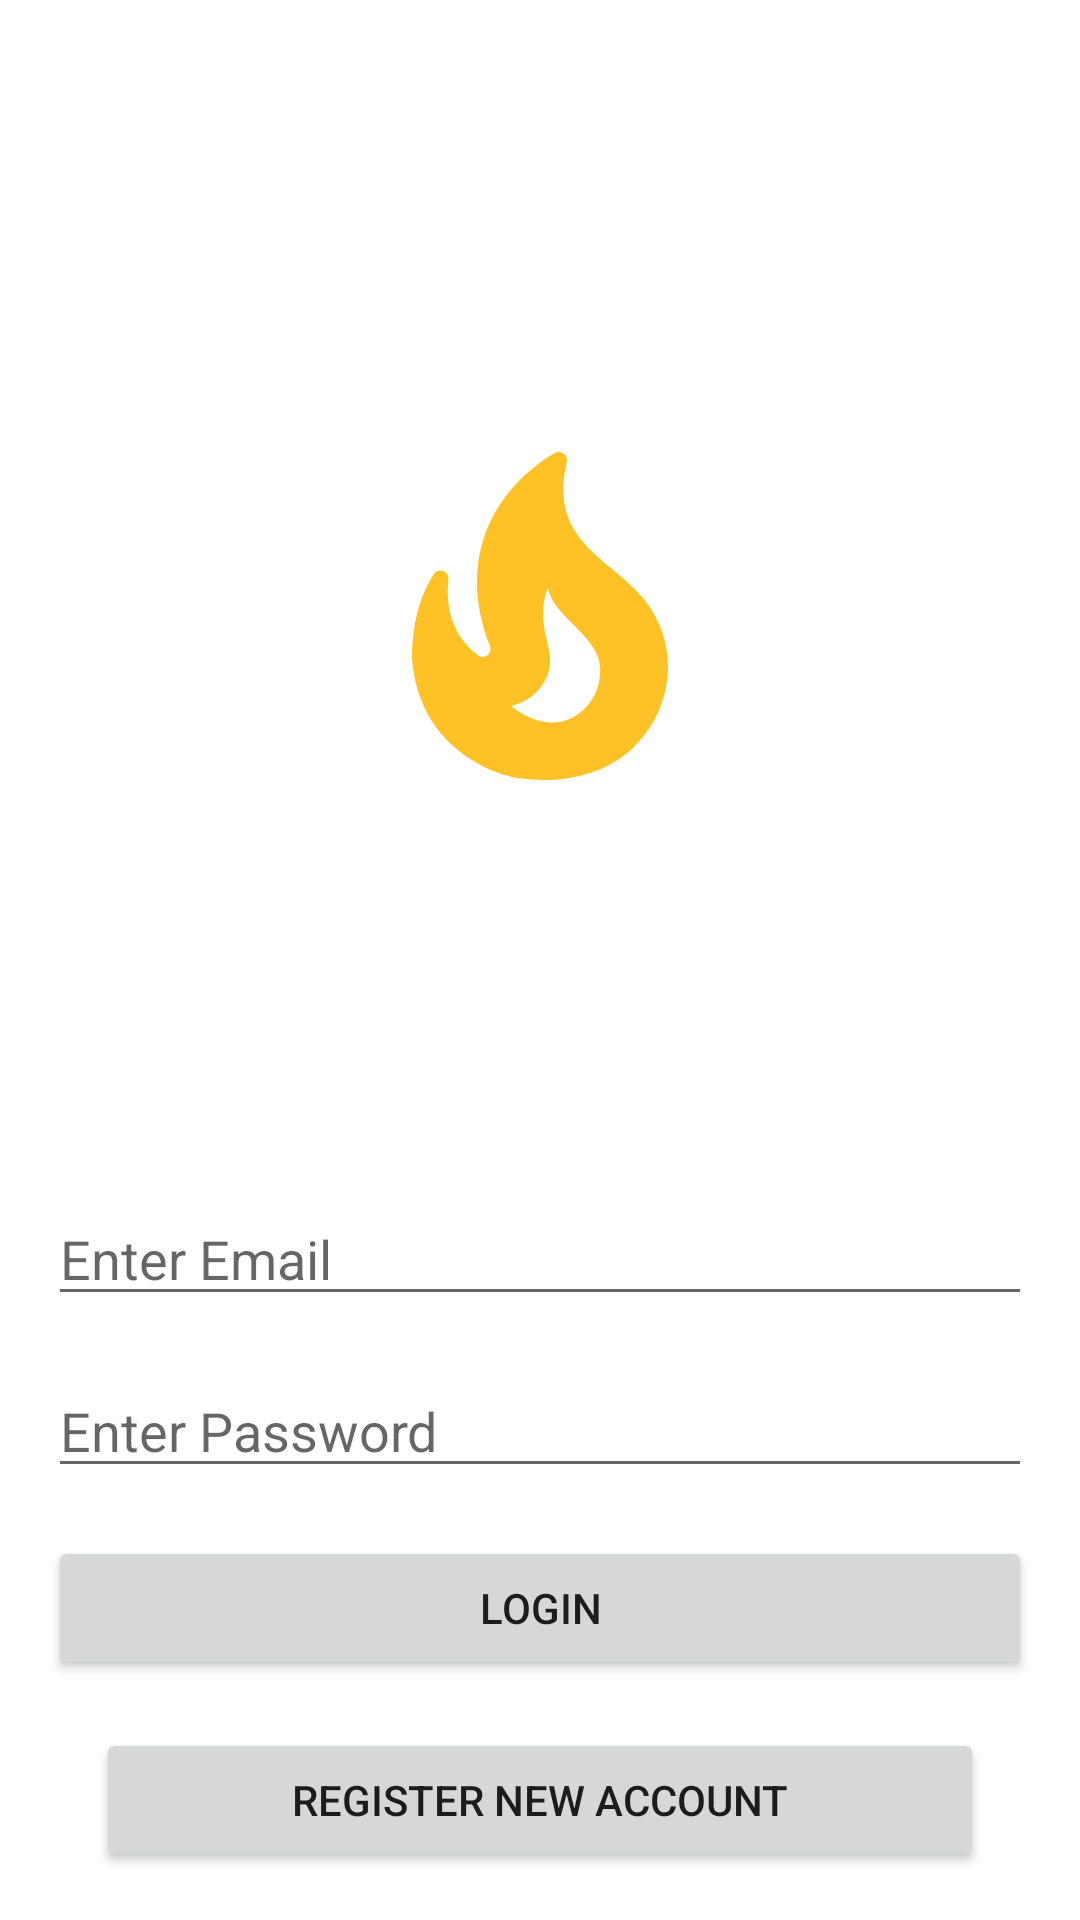

Where to tap for icons on this 1080×1920 app screen, as point (x, y):
local fire department: point (540, 616)
